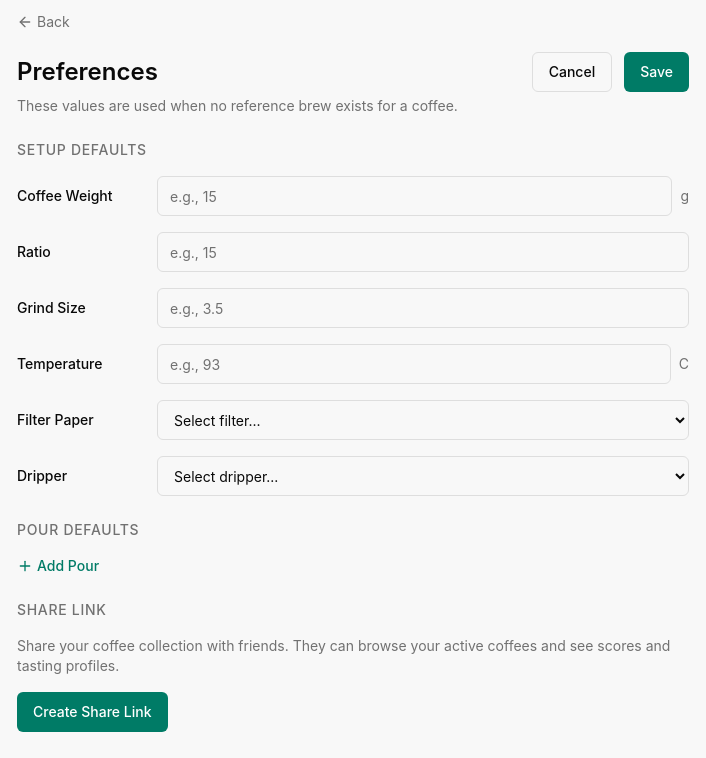
Test: PreferencesPage › adds a pour default
Expected: the heading "Preferences" is shown, [17,56,158,88]
Click the button "Add Pour" at coordinates (58, 566), box [17,556,99,576]
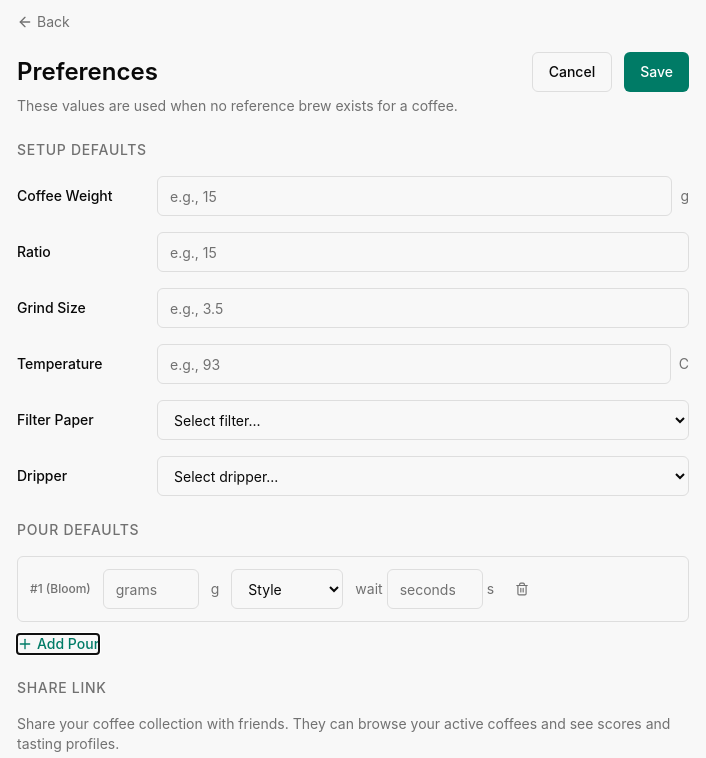
Now the text "#1 (Bloom)" is shown, box [30,581,91,597]
Click the button "Add Pour" at coordinates (58, 644), box [17,634,99,654]
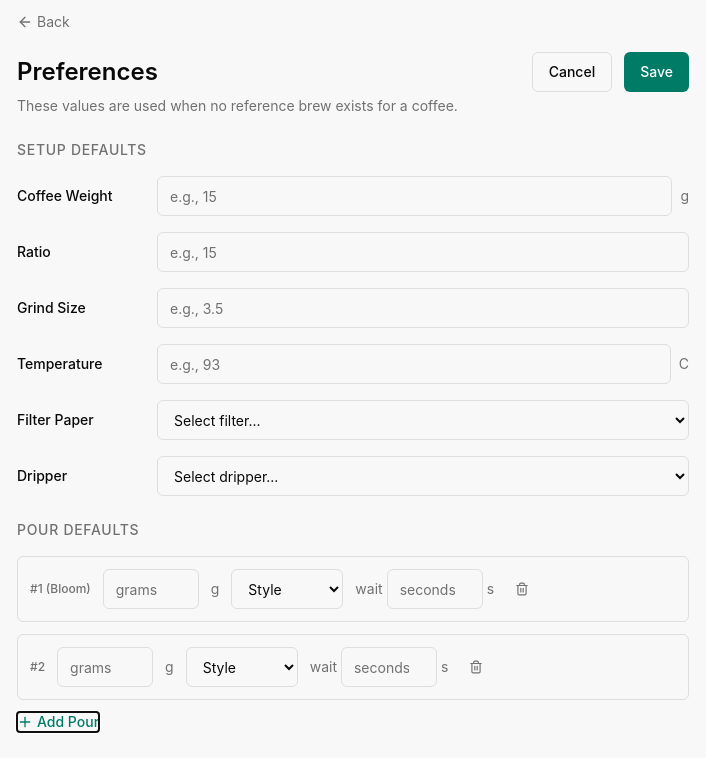
Now the text "#2" is shown, box [30,659,45,675]
